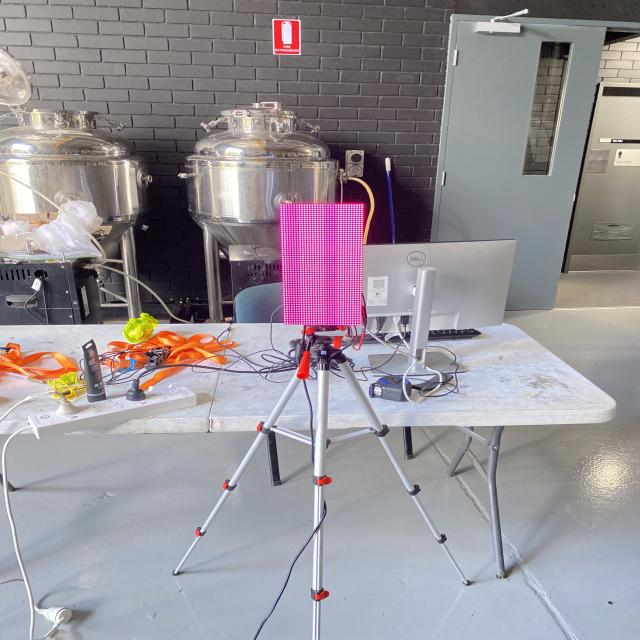matrix: (273, 202, 368, 330)
